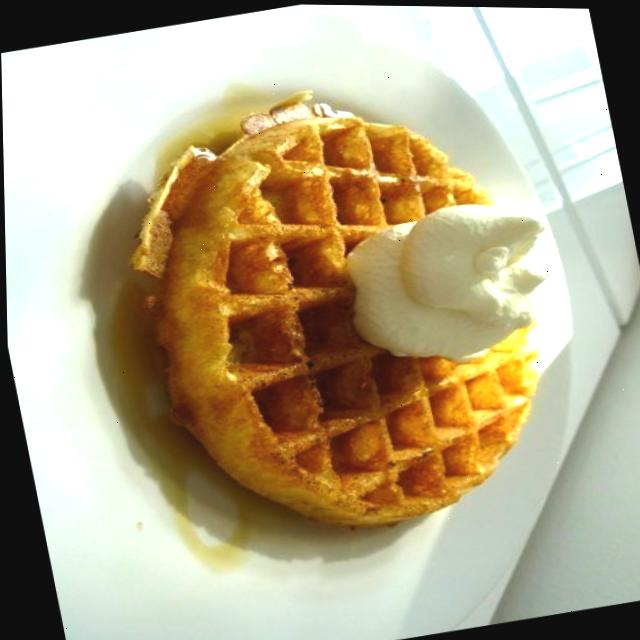炸货点心: (83, 47, 600, 569)
蛋糕甜品: (83, 47, 600, 569)
